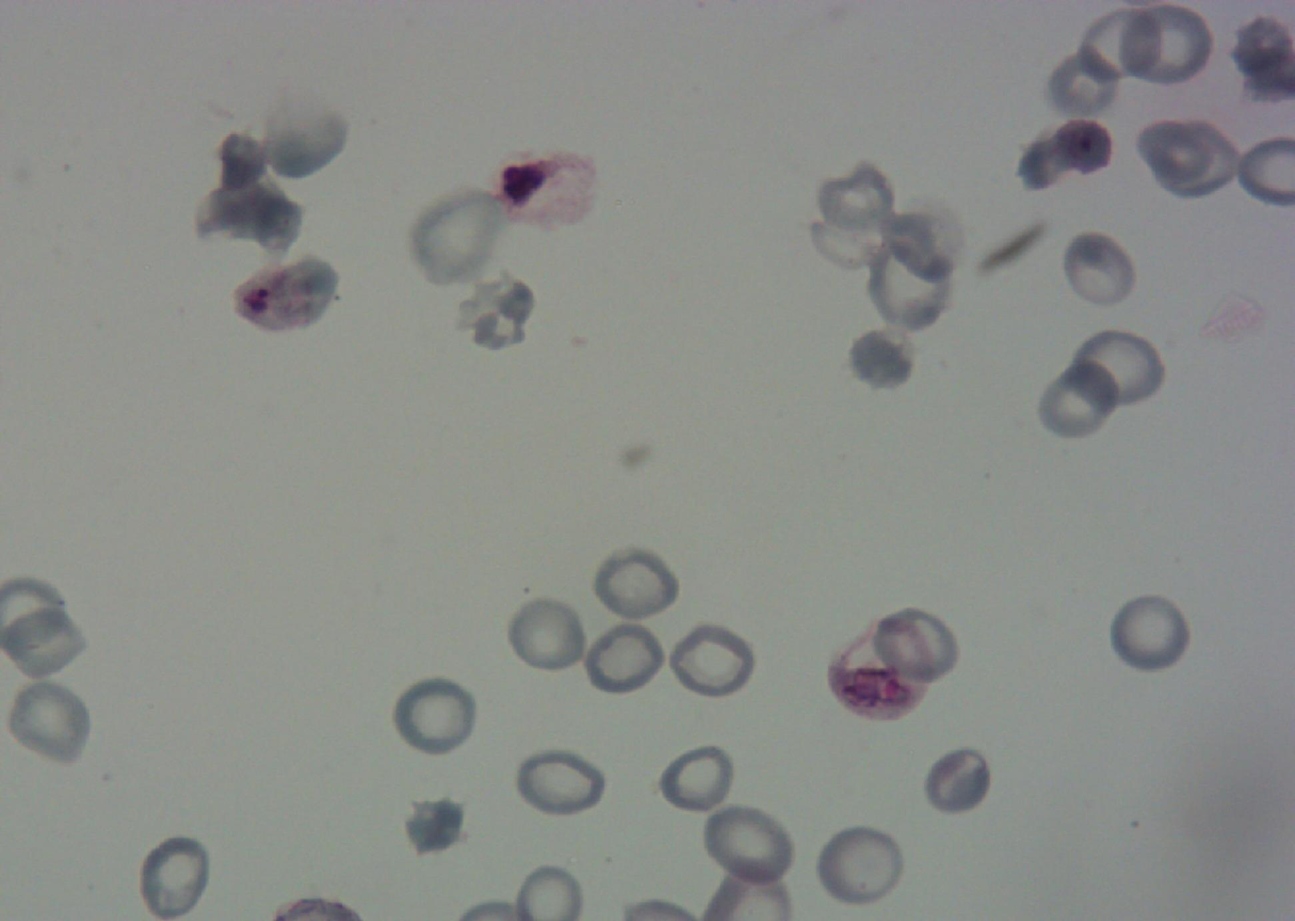Infected: (824, 627, 926, 724), (494, 151, 595, 232)
Uninfected: (405, 186, 508, 289), (812, 822, 909, 911), (865, 233, 950, 333), (1068, 325, 1166, 411), (1136, 116, 1236, 200), (258, 88, 350, 179), (3, 677, 95, 767), (390, 671, 481, 760), (867, 605, 962, 689), (199, 174, 304, 250), (1118, 3, 1213, 86), (1106, 590, 1194, 677), (1035, 355, 1121, 444), (590, 542, 682, 624), (811, 162, 899, 246), (701, 806, 793, 886), (581, 616, 667, 699), (129, 834, 212, 920), (1077, 4, 1167, 83), (504, 593, 590, 675), (452, 274, 536, 356), (1021, 119, 1114, 192), (657, 740, 742, 819), (667, 622, 756, 696), (0, 608, 92, 678), (883, 208, 967, 282), (917, 741, 996, 819), (1062, 229, 1139, 307), (517, 745, 605, 812), (1037, 49, 1119, 119), (846, 324, 920, 394), (403, 793, 466, 856)
